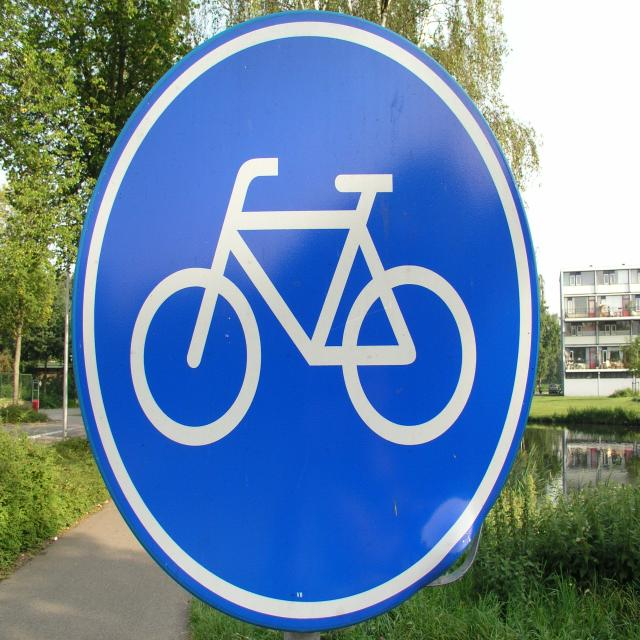Traffic sign: (72, 8, 541, 638)
